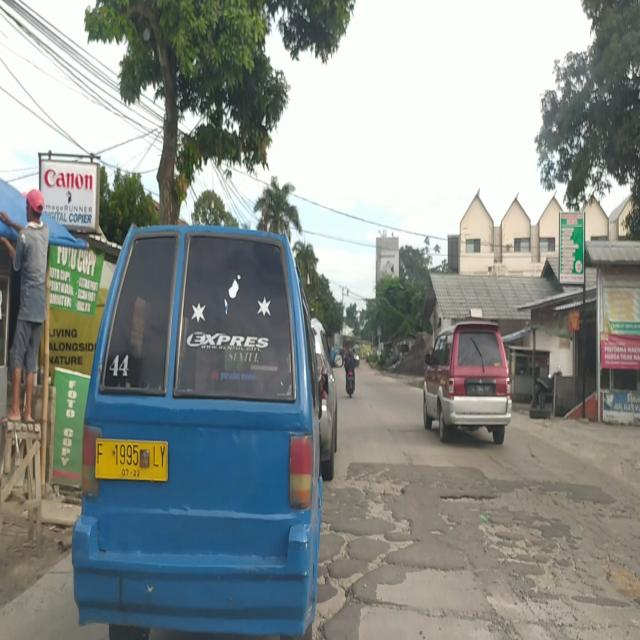Drain Hole: (426, 468, 637, 615), (315, 470, 424, 636)
